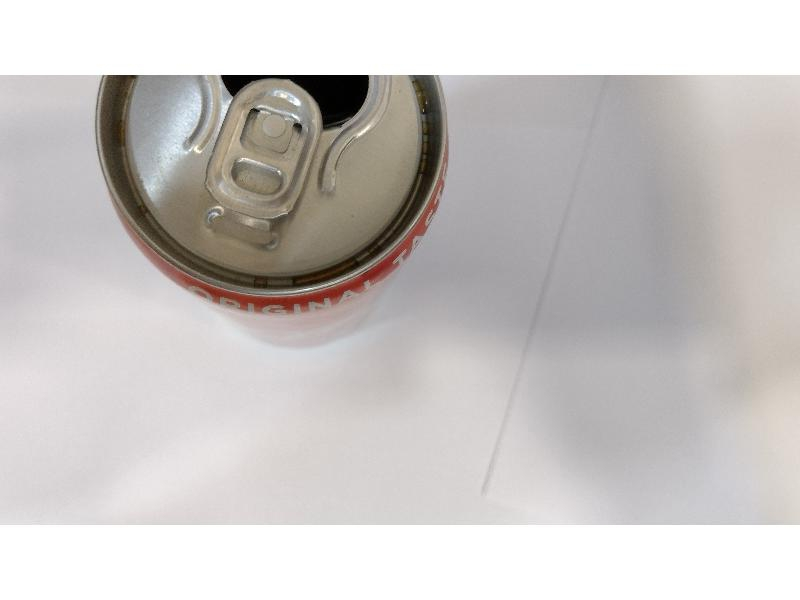can: (98, 78, 454, 355)
